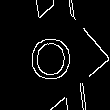O_N: (32, 28, 78, 82)
